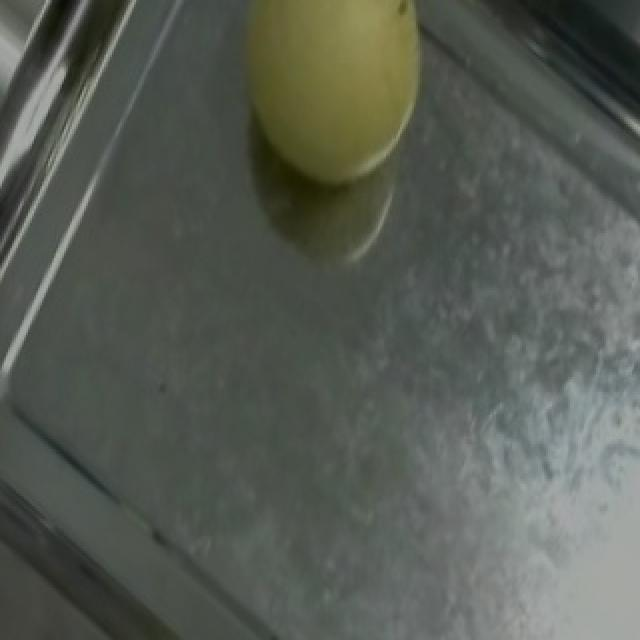Fruit: (194, 0, 460, 223)
